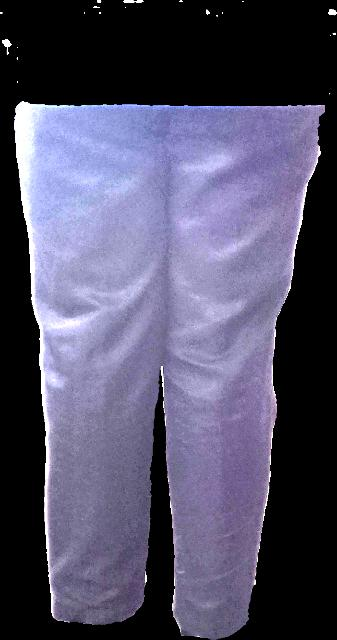blackpants: (14, 102, 324, 639)
